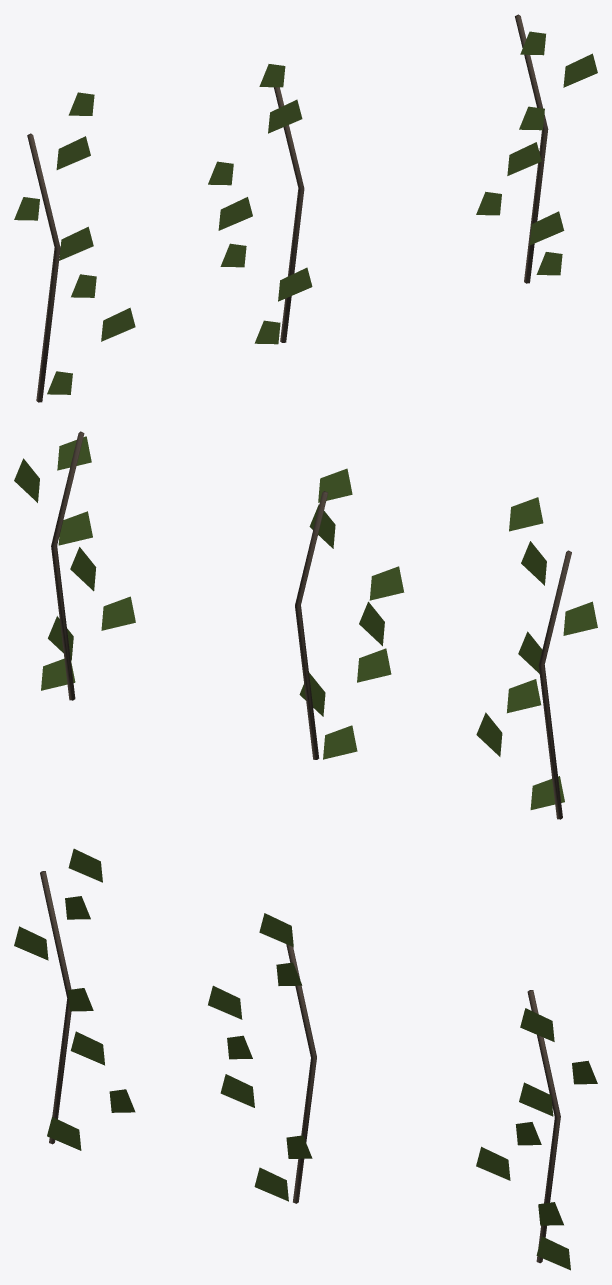
The model's file is city_greenery_sprout.glb.
The picture shows the model from 3 angles, top to bottom: view 1: azimuth 30°, elevation 25°; view 2: azimuth 150°, elevation 25°; view 3: azimuth 330°, elevation 25°; orthographic projection.
Visible parts, largest first — view 1: CityGreenerySprout_Leaves, CityGreenerySprout_Stem0, CityGreenerySprout_Stem2, CityGreenerySprout_Stem1; view 2: CityGreenerySprout_Leaves, CityGreenerySprout_Stem2, CityGreenerySprout_Stem0, CityGreenerySprout_Stem1; view 3: CityGreenerySprout_Leaves, CityGreenerySprout_Stem0, CityGreenerySprout_Stem1, CityGreenerySprout_Stem2.
Boxes of the visible parts, x1,y1,x2,y2 form: CityGreenerySprout_Leaves: (14,31,597,394); CityGreenerySprout_Stem0: (27,133,60,402); CityGreenerySprout_Stem2: (515,14,548,283); CityGreenerySprout_Stem1: (274,87,304,342); CityGreenerySprout_Leaves: (14,436,597,809); CityGreenerySprout_Stem2: (51,431,84,700); CityGreenerySprout_Stem0: (538,550,571,819); CityGreenerySprout_Stem1: (295,491,327,759); CityGreenerySprout_Leaves: (14,848,597,1270); CityGreenerySprout_Stem0: (40,871,71,1144); CityGreenerySprout_Stem1: (286,944,316,1203); CityGreenerySprout_Stem2: (527,990,560,1263).
Size of the model in its own units: 3.19 by 1.61 by 0.0907.
